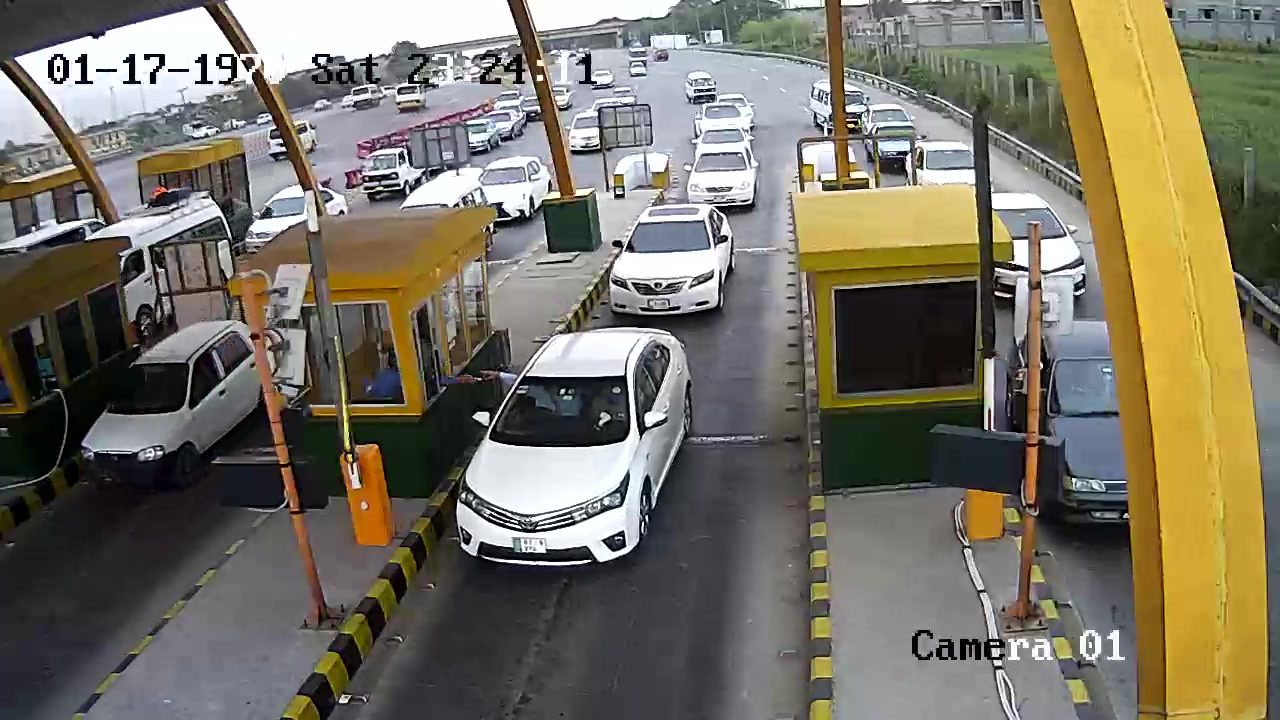F1: (453, 328, 708, 570)
